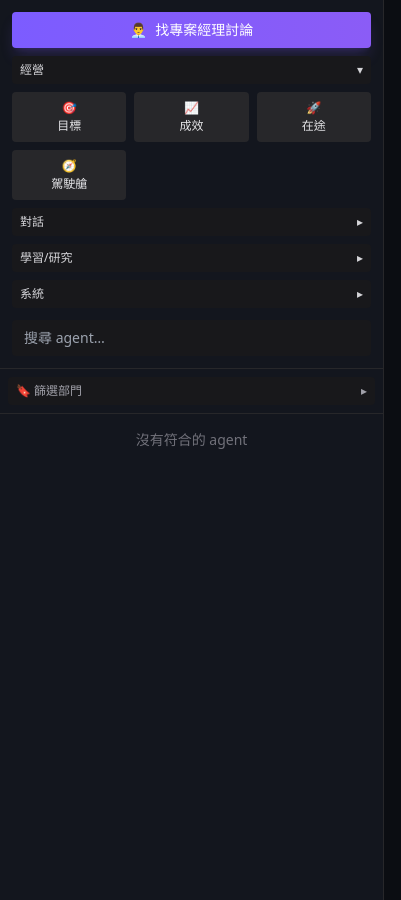
Test: AgentSidebar 分組折疊 › 點擊「系統」組頭展開後，設定按鈕出現
Click the button with test id "group-header-系統".
click(32, 294)  # box [12, 280, 371, 308]
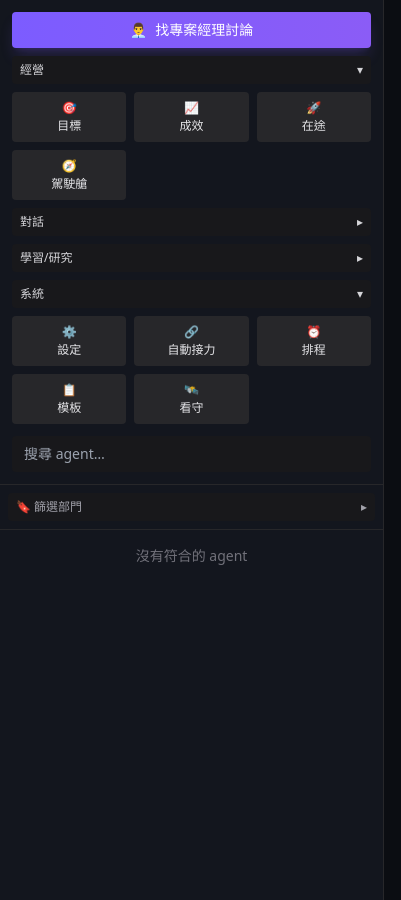
Expected: the button titled "主題、字體、通知設定" is shown, [12, 316, 126, 366]
